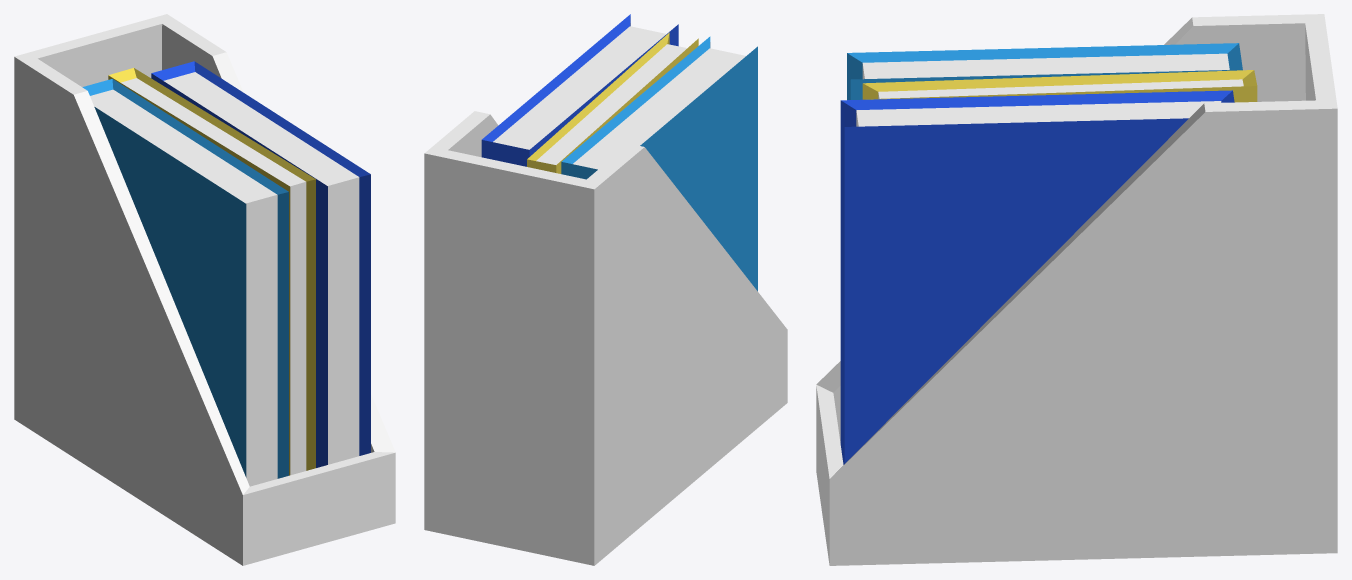
Rendered from folder for documents.004.fbx.
The picture shows the model from 3 angles, left to right: view 1: azimuth 30°, elevation 25°; view 2: azimuth 150°, elevation 25°; view 3: azimuth 270°, elevation 25°; orthographic projection. The views are drawn at different scales.
Parts seen in each view (by area): view 1: folder for documents.004; view 2: folder for documents.004; view 3: folder for documents.004.
Part boxes in pixels (x1,y1,x2,y2): folder for documents.004: (14,14,395,565); folder for documents.004: (424,14,787,565); folder for documents.004: (816,14,1337,565).
Size of the model in its own units: 0.3035 by 0.5853 by 0.6223.
Materials: 1 (1 with a texture image).
